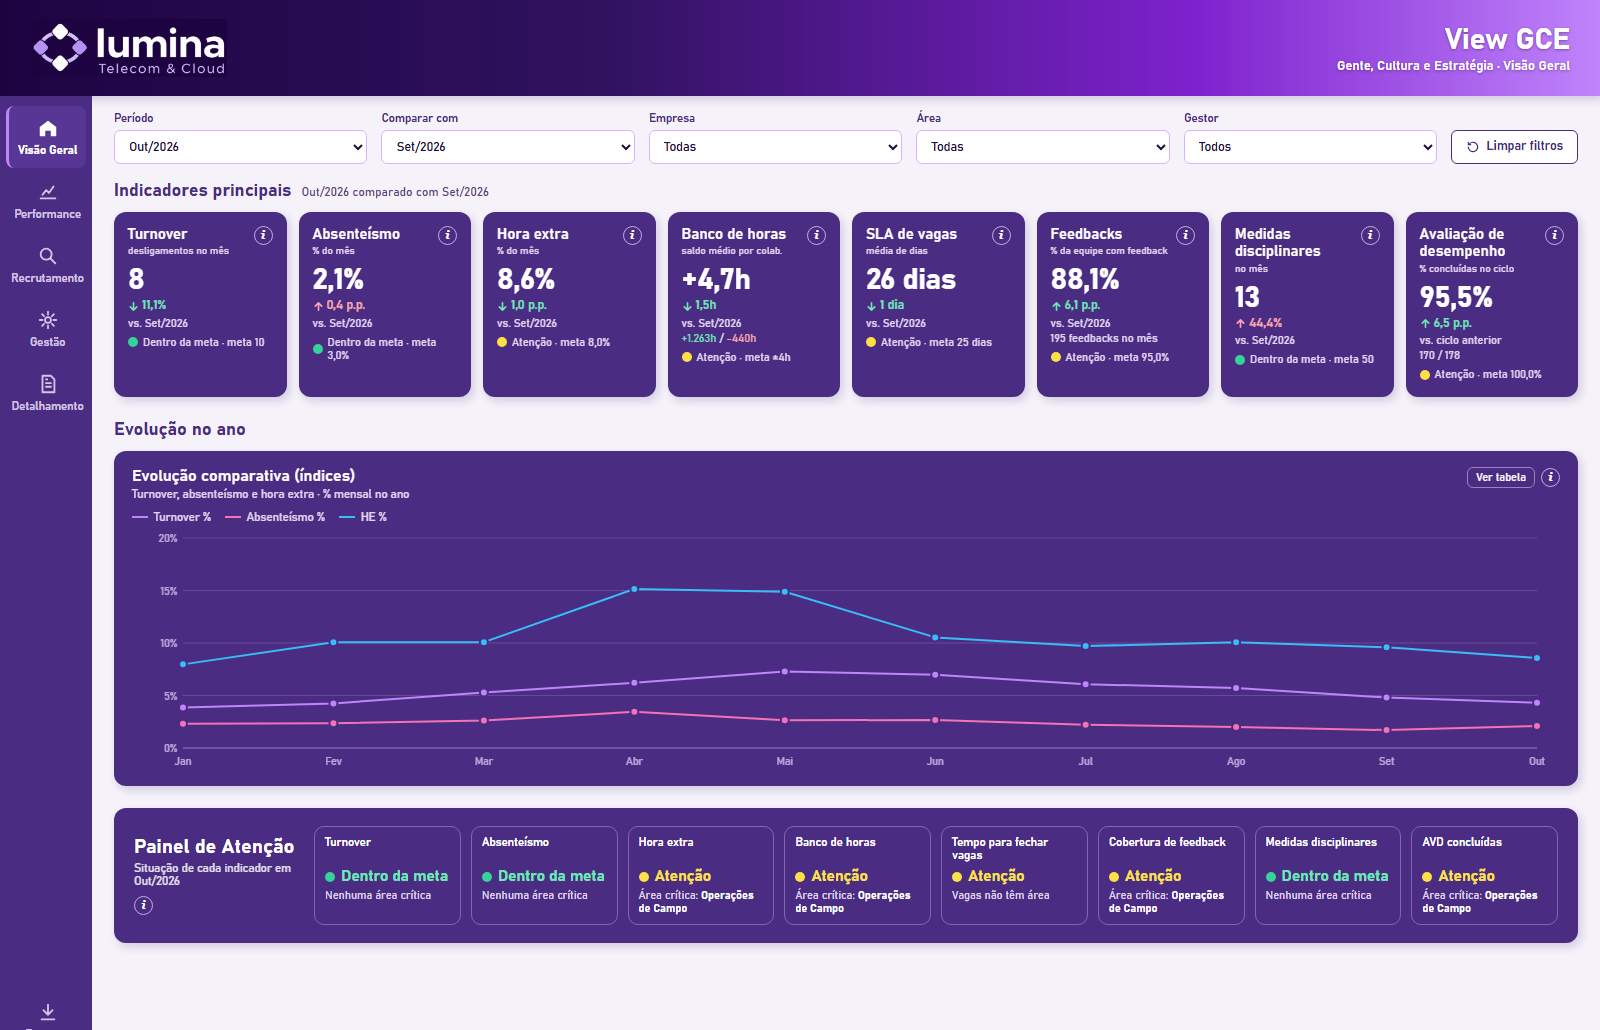

The page's visual inventory and layout, read from the dashboard file:
{"tool":"powerbi","page":{"name":"Visão Geral","canvas":[1600,776],"ordinal":0},"visuals":[{"type":"image","box":[0,0,1606,112],"z":0},{"type":"shape","box":[10,630,1580,130],"z":1000},{"type":"textbox","box":[804,202,191,128],"z":2000},{"type":"textbox","box":[606,202,191,128],"z":3000},{"type":"textbox","box":[1253,640,159,110],"z":4000},{"type":"textbox","box":[1201,202,191,128],"z":5000},{"type":"textbox","box":[1400,202,191,128],"z":6000},{"type":"textbox","box":[587,640,159,110],"z":7000},{"type":"textbox","box":[920,640,159,110],"z":8000},{"type":"textbox","box":[10,202,191,128],"z":9000},{"type":"textbox","box":[209,202,191,128],"z":10000},{"type":"textbox","box":[1420,640,159,110],"z":11000},{"type":"textbox","box":[407,202,191,128],"z":12000},{"type":"textbox","box":[1003,202,191,128],"z":13000},{"type":"textbox","box":[254,640,159,110],"z":14000},{"type":"textbox","box":[421,640,159,110],"z":15000},{"type":"textbox","box":[1087,640,159,110],"z":16000},{"type":"textbox","box":[754,640,159,110],"z":17000},{"type":"lineChart","title":"Evolução comparativa: Turnover, Absenteísmo e Hora extra (% ao mês)","fields":{"Category":["Eixo Mes.mes_rotulo"],"Y":["_Medidas.Série Turnover %","_Medidas.Série Absenteísmo %","_Medidas.Série HE %"]},"box":[10,340,1580,280],"z":18000},{"type":"textbox","box":[1060,22,532,68],"z":19000},{"type":"textbox","box":[233,206,143,24],"z":20000},{"type":"textbox","box":[630,206,143,24],"z":21000},{"type":"textbox","box":[425,644,151,26],"z":22000},{"type":"textbox","box":[591,644,151,26],"z":23000},{"type":"textbox","box":[24,650,220,90],"z":24000},{"type":"textbox","box":[431,206,143,24],"z":25000},{"type":"textbox","box":[34,206,143,24],"z":26000},{"type":"textbox","box":[258,644,151,26],"z":27000},{"type":"textbox","box":[1424,206,143,24],"z":28000},{"type":"textbox","box":[1424,644,151,26],"z":29000},{"type":"textbox","box":[924,644,151,26],"z":30000},{"type":"textbox","box":[828,206,143,24],"z":31000},{"type":"textbox","box":[1091,644,151,26],"z":32000},{"type":"textbox","box":[758,644,151,26],"z":33000},{"type":"textbox","box":[1225,206,143,24],"z":34000},{"type":"textbox","box":[1027,206,143,24],"z":35000},{"type":"textbox","box":[1257,644,151,26],"z":36000},{"type":"card","fields":{"Values":["_Medidas.Comparação (texto)"]},"box":[1404,286,183,20],"z":37000},{"type":"card","fields":{"Values":["_Medidas.Variação (texto)"]},"box":[808,266,183,22],"z":38000},{"type":"card","fields":{"Values":["_Medidas.Chip (texto)"]},"box":[610,304,183,24],"z":39000},{"type":"card","fields":{"Values":["_Medidas.Chip (texto)"]},"box":[14,304,183,24],"z":40000},{"type":"card","fields":{"Values":["_Medidas.Chip (texto)"]},"box":[1007,304,183,24],"z":41000},{"type":"card","fields":{"Values":["_Medidas.Valor do indicador (texto)"]},"box":[213,226,183,42],"z":42000},{"type":"card","fields":{"Values":["_Medidas.Chip (texto)"]},"box":[808,304,183,24],"z":43000},{"type":"card","fields":{"Values":["_Medidas.Status (texto)"]},"box":[1091,668,151,30],"z":44000},{"type":"card","fields":{"Values":["_Medidas.Comparação (texto)"]},"box":[1007,286,183,20],"z":45000},{"type":"card","fields":{"Values":["_Medidas.Variação (texto)"]},"box":[610,266,183,22],"z":46000},{"type":"card","fields":{"Values":["_Medidas.Variação (texto)"]},"box":[1205,266,183,22],"z":47000},{"type":"card","fields":{"Values":["_Medidas.Chip (texto)"]},"box":[1205,304,183,24],"z":48000},{"type":"card","fields":{"Values":["_Medidas.Status (texto)"]},"box":[258,668,151,30],"z":49000},{"type":"card","fields":{"Values":["_Medidas.Área crítica (texto)"]},"box":[1257,698,151,56],"z":50000},{"type":"card","fields":{"Values":["_Medidas.Comparação (texto)"]},"box":[610,286,183,20],"z":51000},{"type":"card","fields":{"Values":["_Medidas.Valor do indicador (texto)"]},"box":[1007,226,183,42],"z":52000},{"type":"card","fields":{"Values":["_Medidas.Status (texto)"]},"box":[924,668,151,30],"z":53000},{"type":"card","fields":{"Values":["_Medidas.Comparação (texto)"]},"box":[14,286,183,20],"z":54000},{"type":"card","fields":{"Values":["_Medidas.Valor do indicador (texto)"]},"box":[808,226,183,42],"z":55000},{"type":"card","fields":{"Values":["_Medidas.Chip (texto)"]},"box":[213,304,183,24],"z":56000},{"type":"card","fields":{"Values":["_Medidas.Chip (texto)"]},"box":[411,304,183,24],"z":57000},{"type":"card","fields":{"Values":["_Medidas.Valor do indicador (texto)"]},"box":[610,226,183,42],"z":58000},{"type":"card","fields":{"Values":["_Medidas.Área crítica (texto)"]},"box":[258,698,151,56],"z":59000},{"type":"card","fields":{"Values":["_Medidas.Variação (texto)"]},"box":[213,266,183,22],"z":60000},{"type":"card","fields":{"Values":["_Medidas.Comparação (texto)"]},"box":[213,286,183,20],"z":61000},{"type":"card","fields":{"Values":["_Medidas.Área crítica (texto)"]},"box":[758,698,151,56],"z":62000},{"type":"card","fields":{"Values":["_Medidas.Variação (texto)"]},"box":[411,266,183,22],"z":63000},{"type":"card","fields":{"Values":["_Medidas.Valor do indicador (texto)"]},"box":[1404,226,183,42],"z":64000},{"type":"card","fields":{"Values":["_Medidas.Variação (texto)"]},"box":[1007,266,183,22],"z":65000},{"type":"card","fields":{"Values":["_Medidas.Status (texto)"]},"box":[758,668,151,30],"z":66000},{"type":"card","fields":{"Values":["_Medidas.Status (texto)"]},"box":[425,668,151,30],"z":67000},{"type":"card","fields":{"Values":["_Medidas.Área crítica (texto)"]},"box":[924,698,151,56],"z":68000},{"type":"card","fields":{"Values":["_Medidas.Valor do indicador (texto)"]},"box":[411,226,183,42],"z":69000},{"type":"card","fields":{"Values":["_Medidas.Status (texto)"]},"box":[1257,668,151,30],"z":70000},{"type":"card","fields":{"Values":["_Medidas.Chip (texto)"]},"box":[1404,304,183,24],"z":71000},{"type":"card","fields":{"Values":["_Medidas.Área crítica (texto)"]},"box":[1091,698,151,56],"z":72000},{"type":"card","fields":{"Values":["_Medidas.Variação (texto)"]},"box":[14,266,183,22],"z":73000},{"type":"card","fields":{"Values":["_Medidas.Área crítica (texto)"]},"box":[425,698,151,56],"z":74000},{"type":"card","fields":{"Values":["_Medidas.Área crítica (texto)"]},"box":[591,698,151,56],"z":75000},{"type":"card","fields":{"Values":["_Medidas.Comparação (texto)"]},"box":[1205,286,183,20],"z":76000},{"type":"card","fields":{"Values":["_Medidas.Área crítica (texto)"]},"box":[1424,698,151,56],"z":77000},{"type":"card","fields":{"Values":["_Medidas.Comparação (texto)"]},"box":[411,286,183,20],"z":78000},{"type":"card","fields":{"Values":["_Medidas.Valor do indicador (texto)"]},"box":[14,226,183,42],"z":79000},{"type":"card","fields":{"Values":["_Medidas.Status (texto)"]},"box":[1424,668,151,30],"z":80000},{"type":"card","fields":{"Values":["_Medidas.Valor do indicador (texto)"]},"box":[1205,226,183,42],"z":81000},{"type":"card","fields":{"Values":["_Medidas.Variação (texto)"]},"box":[1404,266,183,22],"z":82000},{"type":"card","fields":{"Values":["_Medidas.Status (texto)"]},"box":[591,668,151,30],"z":83000},{"type":"card","fields":{"Values":["_Medidas.Comparação (texto)"]},"box":[808,286,183,20],"z":84000},{"type":"slicer","fields":{"Values":["Calendario.mes_rotulo"]},"box":[12.7,120.9,310,72.7],"z":85000},{"type":"slicer","fields":{"Values":["Colaborador.area"]},"box":[963.6,120.9,310,72.7],"z":86000},{"type":"slicer","fields":{"Values":["Comparar com.Comparar com"]},"box":[330,120.9,310,72.7],"z":87000},{"type":"slicer","fields":{"Values":["Colaborador.gestor"]},"box":[1280.9,120.9,310,72.7],"z":88000},{"type":"slicer","fields":{"Values":["Colaborador.empresa"]},"box":[647.3,120.9,310,72.7],"z":89000},{"type":"actionButton","box":[373,207,22,22],"z":90000},{"type":"actionButton","box":[1560,348,22,22],"z":91000},{"type":"actionButton","box":[175,207,22,22],"z":92000},{"type":"actionButton","box":[969,207,22,22],"z":93000},{"type":"actionButton","box":[216,652,22,22],"z":94000},{"type":"actionButton","box":[770,207,22,22],"z":95000},{"type":"actionButton","box":[1167,207,22,22],"z":96000},{"type":"actionButton","box":[1564,207,22,22],"z":97000},{"type":"actionButton","box":[1366,207,22,22],"z":98000},{"type":"actionButton","box":[572,207,22,22],"z":99000}]}

Visuals, with their boxes on the page's 1600x776 design canvas (x1, y1, x2, y2). These are canvas units, not pixel positions in the 1600x1030 screenshot, which may show the page scaled, cropped or inside an application window:
image: <bbox>0, 0, 1606, 112</bbox>
shape: <bbox>10, 630, 1590, 760</bbox>
textbox: <bbox>804, 202, 995, 330</bbox>
textbox: <bbox>606, 202, 797, 330</bbox>
textbox: <bbox>1253, 640, 1412, 750</bbox>
textbox: <bbox>1201, 202, 1392, 330</bbox>
textbox: <bbox>1400, 202, 1591, 330</bbox>
textbox: <bbox>587, 640, 746, 750</bbox>
textbox: <bbox>920, 640, 1079, 750</bbox>
textbox: <bbox>10, 202, 201, 330</bbox>
textbox: <bbox>209, 202, 400, 330</bbox>
textbox: <bbox>1420, 640, 1579, 750</bbox>
textbox: <bbox>407, 202, 598, 330</bbox>
textbox: <bbox>1003, 202, 1194, 330</bbox>
textbox: <bbox>254, 640, 413, 750</bbox>
textbox: <bbox>421, 640, 580, 750</bbox>
textbox: <bbox>1087, 640, 1246, 750</bbox>
textbox: <bbox>754, 640, 913, 750</bbox>
"Evolução comparativa: Turnover, Absenteísmo e Hora extra (% ao mês)" lineChart: <bbox>10, 340, 1590, 620</bbox>
textbox: <bbox>1060, 22, 1592, 90</bbox>
textbox: <bbox>233, 206, 376, 230</bbox>
textbox: <bbox>630, 206, 773, 230</bbox>
textbox: <bbox>425, 644, 576, 670</bbox>
textbox: <bbox>591, 644, 742, 670</bbox>
textbox: <bbox>24, 650, 244, 740</bbox>
textbox: <bbox>431, 206, 574, 230</bbox>
textbox: <bbox>34, 206, 177, 230</bbox>
textbox: <bbox>258, 644, 409, 670</bbox>
textbox: <bbox>1424, 206, 1567, 230</bbox>
textbox: <bbox>1424, 644, 1575, 670</bbox>
textbox: <bbox>924, 644, 1075, 670</bbox>
textbox: <bbox>828, 206, 971, 230</bbox>
textbox: <bbox>1091, 644, 1242, 670</bbox>
textbox: <bbox>758, 644, 909, 670</bbox>
textbox: <bbox>1225, 206, 1368, 230</bbox>
textbox: <bbox>1027, 206, 1170, 230</bbox>
textbox: <bbox>1257, 644, 1408, 670</bbox>
card - _Medidas.Comparação (texto): <bbox>1404, 286, 1587, 306</bbox>
card - _Medidas.Variação (texto): <bbox>808, 266, 991, 288</bbox>
card - _Medidas.Chip (texto): <bbox>610, 304, 793, 328</bbox>
card - _Medidas.Chip (texto): <bbox>14, 304, 197, 328</bbox>
card - _Medidas.Chip (texto): <bbox>1007, 304, 1190, 328</bbox>
card - _Medidas.Valor do indicador (texto): <bbox>213, 226, 396, 268</bbox>
card - _Medidas.Chip (texto): <bbox>808, 304, 991, 328</bbox>
card - _Medidas.Status (texto): <bbox>1091, 668, 1242, 698</bbox>
card - _Medidas.Comparação (texto): <bbox>1007, 286, 1190, 306</bbox>
card - _Medidas.Variação (texto): <bbox>610, 266, 793, 288</bbox>
card - _Medidas.Variação (texto): <bbox>1205, 266, 1388, 288</bbox>
card - _Medidas.Chip (texto): <bbox>1205, 304, 1388, 328</bbox>
card - _Medidas.Status (texto): <bbox>258, 668, 409, 698</bbox>
card - _Medidas.Área crítica (texto): <bbox>1257, 698, 1408, 754</bbox>
card - _Medidas.Comparação (texto): <bbox>610, 286, 793, 306</bbox>
card - _Medidas.Valor do indicador (texto): <bbox>1007, 226, 1190, 268</bbox>
card - _Medidas.Status (texto): <bbox>924, 668, 1075, 698</bbox>
card - _Medidas.Comparação (texto): <bbox>14, 286, 197, 306</bbox>
card - _Medidas.Valor do indicador (texto): <bbox>808, 226, 991, 268</bbox>
card - _Medidas.Chip (texto): <bbox>213, 304, 396, 328</bbox>
card - _Medidas.Chip (texto): <bbox>411, 304, 594, 328</bbox>
card - _Medidas.Valor do indicador (texto): <bbox>610, 226, 793, 268</bbox>
card - _Medidas.Área crítica (texto): <bbox>258, 698, 409, 754</bbox>
card - _Medidas.Variação (texto): <bbox>213, 266, 396, 288</bbox>
card - _Medidas.Comparação (texto): <bbox>213, 286, 396, 306</bbox>
card - _Medidas.Área crítica (texto): <bbox>758, 698, 909, 754</bbox>
card - _Medidas.Variação (texto): <bbox>411, 266, 594, 288</bbox>
card - _Medidas.Valor do indicador (texto): <bbox>1404, 226, 1587, 268</bbox>
card - _Medidas.Variação (texto): <bbox>1007, 266, 1190, 288</bbox>
card - _Medidas.Status (texto): <bbox>758, 668, 909, 698</bbox>
card - _Medidas.Status (texto): <bbox>425, 668, 576, 698</bbox>
card - _Medidas.Área crítica (texto): <bbox>924, 698, 1075, 754</bbox>
card - _Medidas.Valor do indicador (texto): <bbox>411, 226, 594, 268</bbox>
card - _Medidas.Status (texto): <bbox>1257, 668, 1408, 698</bbox>
card - _Medidas.Chip (texto): <bbox>1404, 304, 1587, 328</bbox>
card - _Medidas.Área crítica (texto): <bbox>1091, 698, 1242, 754</bbox>
card - _Medidas.Variação (texto): <bbox>14, 266, 197, 288</bbox>
card - _Medidas.Área crítica (texto): <bbox>425, 698, 576, 754</bbox>
card - _Medidas.Área crítica (texto): <bbox>591, 698, 742, 754</bbox>
card - _Medidas.Comparação (texto): <bbox>1205, 286, 1388, 306</bbox>
card - _Medidas.Área crítica (texto): <bbox>1424, 698, 1575, 754</bbox>
card - _Medidas.Comparação (texto): <bbox>411, 286, 594, 306</bbox>
card - _Medidas.Valor do indicador (texto): <bbox>14, 226, 197, 268</bbox>
card - _Medidas.Status (texto): <bbox>1424, 668, 1575, 698</bbox>
card - _Medidas.Valor do indicador (texto): <bbox>1205, 226, 1388, 268</bbox>
card - _Medidas.Variação (texto): <bbox>1404, 266, 1587, 288</bbox>
card - _Medidas.Status (texto): <bbox>591, 668, 742, 698</bbox>
card - _Medidas.Comparação (texto): <bbox>808, 286, 991, 306</bbox>
slicer - Calendario.mes_rotulo: <bbox>13, 121, 323, 194</bbox>
slicer - Colaborador.area: <bbox>964, 121, 1274, 194</bbox>
slicer - Comparar com.Comparar com: <bbox>330, 121, 640, 194</bbox>
slicer - Colaborador.gestor: <bbox>1281, 121, 1591, 194</bbox>
slicer - Colaborador.empresa: <bbox>647, 121, 957, 194</bbox>
actionButton: <bbox>373, 207, 395, 229</bbox>
actionButton: <bbox>1560, 348, 1582, 370</bbox>
actionButton: <bbox>175, 207, 197, 229</bbox>
actionButton: <bbox>969, 207, 991, 229</bbox>
actionButton: <bbox>216, 652, 238, 674</bbox>
actionButton: <bbox>770, 207, 792, 229</bbox>
actionButton: <bbox>1167, 207, 1189, 229</bbox>
actionButton: <bbox>1564, 207, 1586, 229</bbox>
actionButton: <bbox>1366, 207, 1388, 229</bbox>
actionButton: <bbox>572, 207, 594, 229</bbox>
